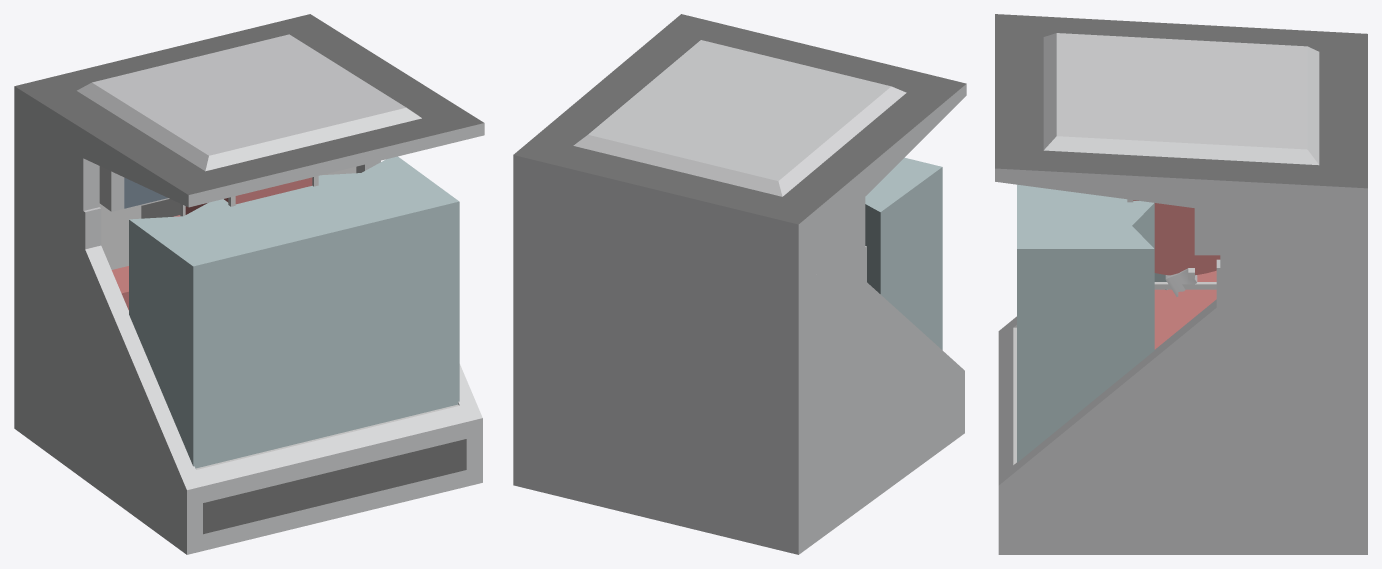
Rendered from kenney-scenery.glb.
The picture shows the model from 3 angles, left to right: view 1: azimuth 30°, elevation 25°; view 2: azimuth 150°, elevation 25°; view 3: azimuth 270°, elevation 25°; orthographic projection. The views are drawn at different scales.
Parts seen in each view (by area): view 1: n_cliff_large, k_grandstand_open, k_grandstand, k_banner_red; view 2: k_grandstand, k_grandstand_open, n_cliff_large; view 3: k_grandstand_open, k_grandstand, n_cliff_large, k_banner_red, k_light_large.
Boxes of the visible parts, x1,y1,x2,y2 form: n_cliff_large: (129, 156, 459, 468); k_grandstand_open: (16, 152, 482, 554); k_grandstand: (14, 14, 484, 429); k_banner_red: (180, 176, 318, 216); k_grandstand: (513, 14, 966, 554); k_grandstand_open: (800, 246, 964, 553); n_cliff_large: (865, 157, 942, 349); k_grandstand_open: (998, 258, 1364, 554); k_grandstand: (995, 14, 1367, 554); n_cliff_large: (1017, 184, 1154, 462); k_banner_red: (1127, 199, 1220, 289); k_light_large: (1165, 268, 1197, 296).
Bounding box in the file's own units: 10 × 11.86 × 10.2.
